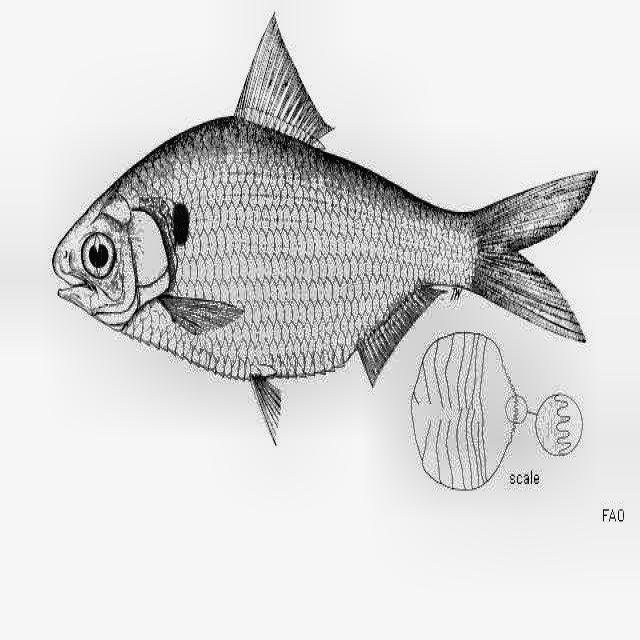fish: (50, 11, 598, 448)
